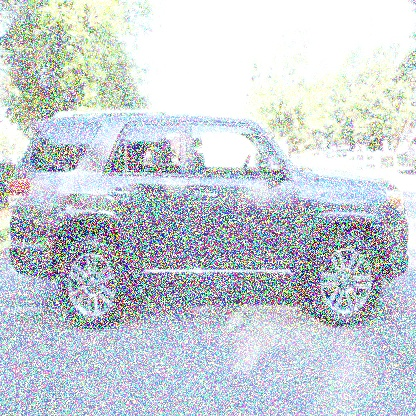Vehicle: (7, 106, 410, 330)
